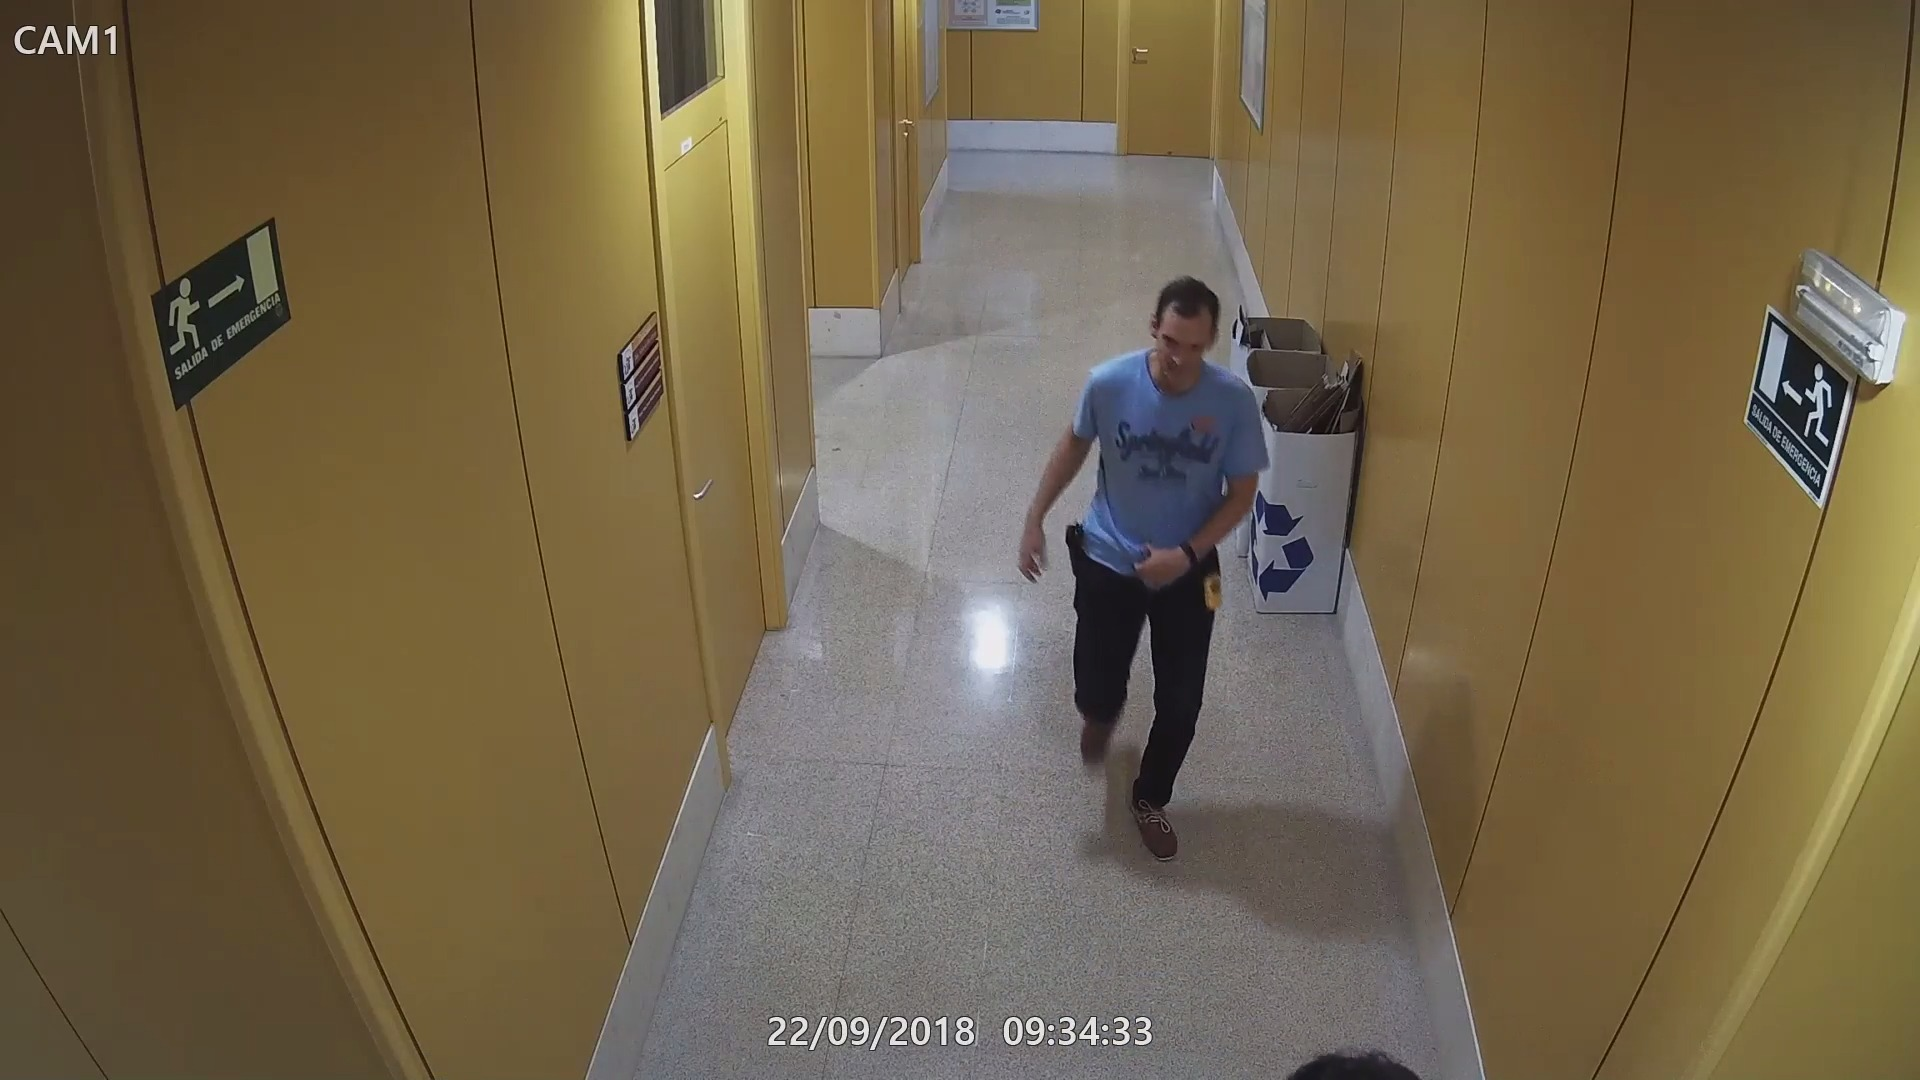Handgun: (1063, 526, 1089, 574)
